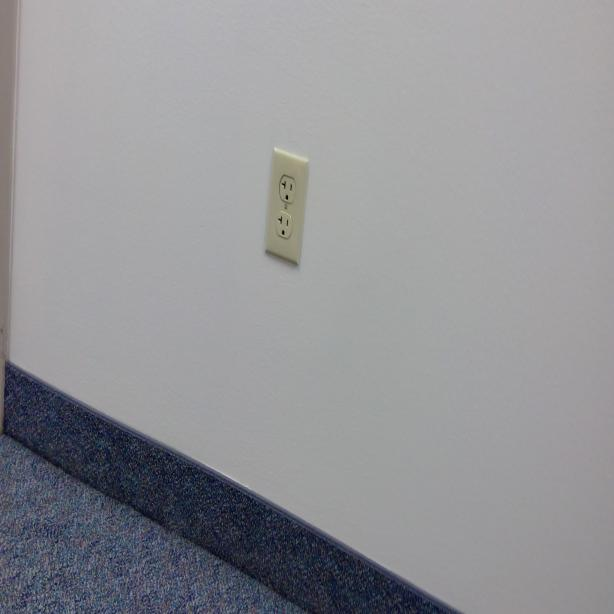typeb: (280, 174, 295, 204), (276, 210, 292, 238)
